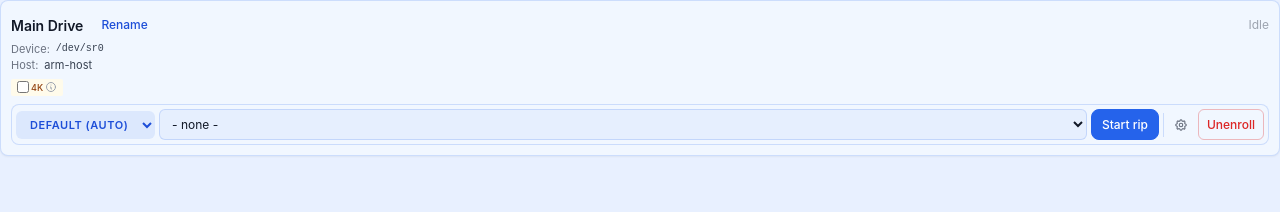
Test case: DriveCard › interactions › enters and exits edit mode via Rename button
Click the button "Rename" at x=125, y=25, box [89,11,160,39]
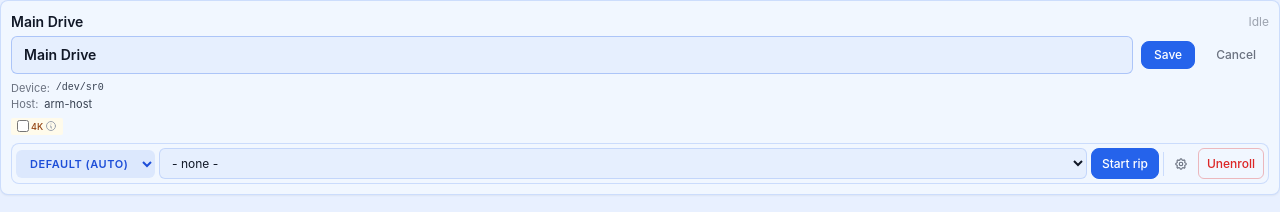
Check: the field showing "Main Drive" is shown, box [11,36,1133,74]
Check: the button "Save" is shown, box [1141,41,1195,69]
Click the button "Cancel" at x=1236, y=55, box [1203,41,1269,69]
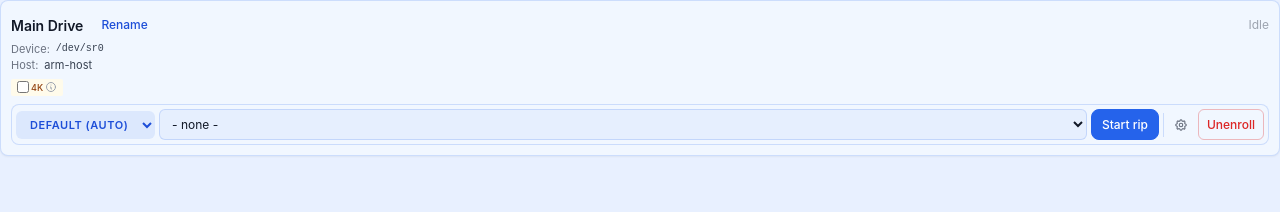
Check: the button "Rename" is shown, box [89,11,160,39]
